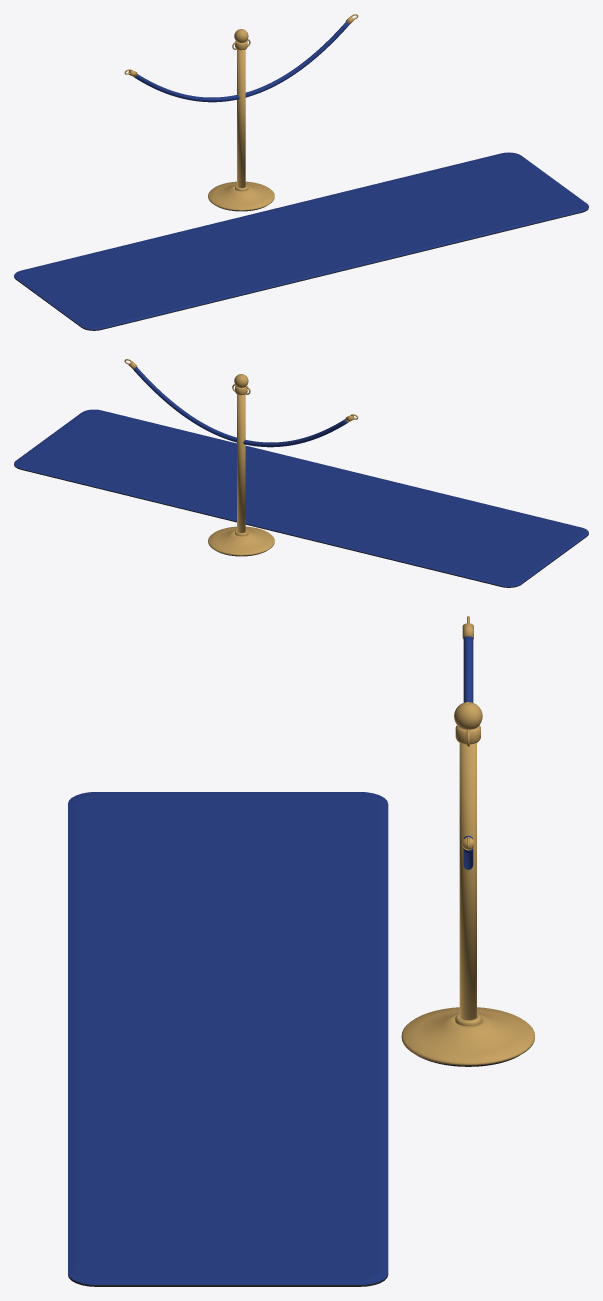
File: rope-stanchions.glb
The picture shows the model from 3 angles, top to bottom: view 1: azimuth 30°, elevation 25°; view 2: azimuth 150°, elevation 25°; view 3: azimuth 270°, elevation 25°; orthographic projection. The views are drawn at different scales.
Visible parts, largest first — view 1: Runner, Post, Rope; view 2: Runner, Post, Rope; view 3: Runner, Post, Rope.
Boxes of the visible parts, x1,y1,x2,y2 form: Runner: (14, 152, 588, 330); Post: (208, 29, 274, 211); Rope: (124, 14, 358, 102); Runner: (14, 409, 588, 587); Post: (208, 374, 274, 556); Rope: (124, 359, 358, 447); Runner: (68, 792, 388, 1286); Post: (401, 702, 534, 1066); Rope: (462, 616, 473, 869).
Size of the model in its own units: 10.2 by 3.25 by 4.08.
